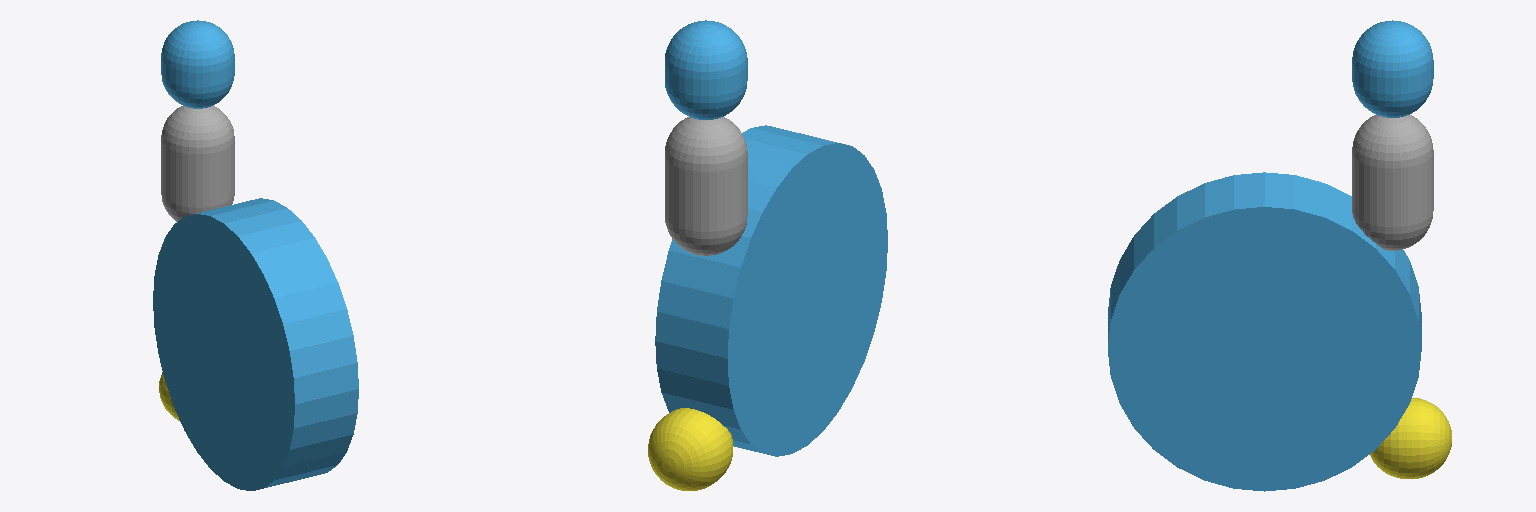
robot.urdf — DexterousHand:
<?xml version="1.0"?>
<robot name="DexterousHand">


    <link name="world"/>
    <joint name="world_to_palm" type="fixed">
        <parent link="world"/>
        <child link="palm"/>
        <origin xyz="0 0 0" rpy="0 0 0"/>
    </joint>
    <link name="palm">
        <inertial>
            <origin xyz="0 0 0.057" rpy="0 0 0"/>
            <mass value="0.30212892864"/>
            <inertia ixx="0.00049080844457568" ixy="0.0" ixz="0.0" iyy="0.00026746366246427523" iyz="0.0" izz="0.00026746366246427523"/>
        </inertial>
        <visual>
            <origin xyz="0 0 0.057" rpy="1.5708 0 1.5708"/>
            <geometry>
                <cylinder radius="0.057" length="0.0296"/>
            </geometry>
            <material name="default"/>
        </visual>
        <collision>
            <origin xyz="0 0 0.057" rpy="1.5708 0 1.5708"/>
            <geometry>
                <cylinder radius="0.057" length="0.0296"/>
            </geometry>
        </collision>
    </link>

    
    <joint name="thumb_joint1" type="revolute">
        <parent link="palm"/>
        <child link="thumb_base"/>
        <origin xyz="0.0029 0.0368 0.0157" rpy="-1.5708 -1.5708 0.0"/>
        <axis xyz="-1 0 0"/>
        <limit lower="-0.349" upper="2.094" effort="1.0" velocity="1.0"/>
    </joint>

    <link name="thumb_base"></link>

    <joint name="thumb_joint2" type="revolute">
        <parent link="thumb_base"/>
        <child link="thumb_proximal"/>
        <origin xyz="0.0 0.0 0.0" rpy="0.0 0.0 0.0"/>
        <axis xyz="0 0 1"/>
        <limit lower="-0.47" upper="2.443" effort="1.0" velocity="1.0"/>
    </joint>

    <link name="thumb_proximal">
        <inertial>
            <origin xyz="0 0 0.01565" rpy="0 0 0"/>
            <mass value="0.021538658803200002"/>
            <inertia ixx="2.9378910096388167e-06" ixy="0.0" ixz="0.0" 
            iyy="2.9378910096388167e-06" iyz="0.0" izz="2.358913912126464e-06"/>
        </inertial>
        <visual>
            <origin xyz="0 0 0.01565" rpy="0 0 0"/>
            <geometry>
                <cylinder radius="0.0148" length="0.0017000000000000001"/>
            </geometry>
            <material name="default"/>
        </visual>
        <visual>
            <origin xyz="0 0 0.0148" rpy="0 0 0"/>
            <geometry>
                <sphere radius="0.0148"/>
            </geometry>
            <material name="default"/>
        </visual>
        <visual>
            <origin xyz="0 0 0.0165" rpy="0 0 0"/>
            <geometry>
                <sphere radius="0.0148"/>
            </geometry>
            <material name="default"/>
        </visual>
        <collision>
            <origin xyz="0 0 0.01565" rpy="0 0 0"/>
            <geometry>
                <cylinder radius="0.0148" length="0.0017000000000000001"/>
            </geometry>
        </collision>
        <collision>
            <origin xyz="0 0 0.0148" rpy="0 0 0"/>
            <geometry>
                <sphere radius="0.0148"/>
            </geometry>
        </collision>
        <collision>
            <origin xyz="0 0 0.0165" rpy="0 0 0"/>
            <geometry>
                <sphere radius="0.0148"/>
            </geometry>
        </collision>
    </link>

    <joint name="thumb_joint3" type="revolute">
        <parent link="thumb_proximal"/>
        <child link="thumb_knuckle"/>
        <origin xyz="0.0 0.0 0.0" rpy="0.0 0.0 0.0"/>
        <axis xyz="1 0 0"/>
        <limit lower="0.0" upper="0.0" effort="1.0" velocity="1.0"/>
    </joint>

    <link name="thumb_knuckle"></link>

    <joint name="thumb_joint4" type="revolute">
        <parent link="thumb_knuckle"/>
        <child link="thumb_middle"/>
        <origin xyz="0 0 0" rpy="0 0 0"/> 
        <axis xyz="0 1 0"/>
        <limit lower="0.0" upper="0.0" effort="1.0" velocity="1.0"/>
    </joint>

    <link name="thumb_middle">
    </link>

    <joint name="thumb_joint5" type="revolute">
        <parent link="thumb_middle"/>
        <child link="thumb_distal"/>
        <origin xyz="0 0 0" rpy="0 0 0"/> 
        <axis xyz="0 1 0"/>
        <limit lower="0.0" upper="0.0" effort="1.0" velocity="1.0"/>
    </joint>

    <link name="thumb_distal">
    </link>

    
    <joint name="index_joint1" type="revolute">
        <parent link="palm"/>
        <child link="index_proximal"/>
        <origin xyz="0.0 0.0465 0.091" rpy="0.0 0.0 0.0"/>
        <axis xyz="0 1 0"/>
        <limit lower="-0.314" upper="2.23" effort="1.0" velocity="1.0"/>
    </joint>

    <link name="index_proximal">
        <inertial>
            <origin xyz="0 0 0.02655" rpy="0 0 0"/>
            <mass value="0.036540024998400006"/>
            <inertia ixx="1.058665009272394e-05" ixy="0.0" ixz="0.0" 
            iyy="1.058665009272394e-05" iyz="0.0" izz="4.001863537824769e-06"/>
        </inertial>
        <visual>
            <origin xyz="0 0 0.02655" rpy="0 0 0"/>
            <geometry>
                <cylinder radius="0.0148" length="0.0235"/>
            </geometry>
            <material name="default"/>
        </visual>
        <visual>
            <origin xyz="0 0 0.0148" rpy="0 0 0"/>
            <geometry>
                <sphere radius="0.0148"/>
            </geometry>
            <material name="default"/>
        </visual>
        <visual>
            <origin xyz="0 0 0.0383" rpy="0 0 0"/>
            <geometry>
                <sphere radius="0.0148"/>
            </geometry>
            <material name="default"/>
        </visual>
        <collision>
            <origin xyz="0 0 0.02655" rpy="0 0 0"/>
            <geometry>
                <cylinder radius="0.0148" length="0.0235"/>
            </geometry>
        </collision>
        <collision>
            <origin xyz="0 0 0.0148" rpy="0 0 0"/>
            <geometry>
                <sphere radius="0.0148"/>
            </geometry>
        </collision>
        <collision>
            <origin xyz="0 0 0.0383" rpy="0 0 0"/>
            <geometry>
                <sphere radius="0.0148"/>
            </geometry>
        </collision>
    </link>

    <joint name="index_joint2" type="revolute">
        <parent link="index_proximal"/>
        <child link="index_dummy"/>
        <origin xyz="0.0 0.0 0.038" rpy="0.0 0.0 0.0"/>
        <axis xyz="1 0 0"/>
        <limit lower="-1.047" upper="1.047" effort="1.0" velocity="1.0"/>
    </joint>

    <link name="index_dummy"></link>

    <joint name="index_joint3" type="revolute">
        <parent link="index_dummy"/>
        <child link="index_middle"/>
        <origin xyz="0 0 0.015100000000000002" rpy="0 0 0"/>
        <axis xyz="0 1 0"/>
        <limit lower="-0.506" upper="1.885" effort="1.0" velocity="1.0"/>
    </joint>

    <link name="index_middle">
        <inertial>
            <origin xyz="0 0 0.01805" rpy="0 0 0"/>
            <mass value="0.0248417119104"/>
            <inertia ixx="4.058162759109537e-06" ixy="0.0" ixz="0.0" 
            iyy="4.058162759109537e-06" iyz="0.0" izz="2.7206642884270085e-06"/>
        </inertial>
        <visual>
            <origin xyz="0 0 0.01805" rpy="0 0 0"/>
            <geometry>
                <cylinder radius="0.0148" length="0.006499999999999999"/>
            </geometry>
            <material name="default"/>
        </visual>
        <visual>
            <origin xyz="0 0 0.0148" rpy="0 0 0"/>
            <geometry>
                <sphere radius="0.0148"/>
            </geometry>
            <material name="default"/>
        </visual>
        <visual>
            <origin xyz="0 0 0.0213" rpy="0 0 0"/>
            <geometry>
                <sphere radius="0.0148"/>
            </geometry>
            <material name="default"/>
        </visual>
        <collision>
            <origin xyz="0 0 0.01805" rpy="0 0 0"/>
            <geometry>
                <cylinder radius="0.0148" length="0.006499999999999999"/>
            </geometry>
        </collision>
        <collision>
            <origin xyz="0 0 0.0148" rpy="0 0 0"/>
            <geometry>
                <sphere radius="0.0148"/>
            </geometry>
        </collision>
        <collision>
            <origin xyz="0 0 0.0213" rpy="0 0 0"/>
            <geometry>
                <sphere radius="0.0148"/>
            </geometry>
        </collision>
    </link>

    <joint name="index_joint4" type="revolute">
        <parent link="index_middle"/>
        <child link="index_distal"/>
        <origin xyz="0 0 0.0361" rpy="0 0 0"/> 
        <axis xyz="0 1 0"/>
        <limit lower="0.0" upper="0.0" effort="1.0" velocity="1.0"/>
    </joint>

    <link name="index_distal">
    </link>

    
    <joint name="middle_joint1" type="revolute">
        <parent link="palm"/>
        <child link="middle_proximal"/>
        <origin xyz="0.0 0.0 0.0" rpy="0.0 0.0 0.0"/>
        <axis xyz="1 0 0"/>
        <limit lower="0.0" upper="0.0" effort="1.0" velocity="1.0"/>
    </joint>

    <link name="middle_proximal">
    </link>

    <joint name="middle_joint2" type="revolute">
        <parent link="middle_proximal"/>
        <child link="middle_dummy"/>
        <origin xyz="0.0 0.0 0.0" rpy="0.0 0.0 0.0"/>
        <axis xyz="0 1 0"/>
        <limit lower="0.0" upper="0.0" effort="1.0" velocity="1.0"/>
    </joint>

    <link name="middle_dummy"></link>

    <joint name="middle_joint3" type="revolute">
        <parent link="middle_dummy"/>
        <child link="middle_middle"/>
        <origin xyz="0 0 0" rpy="0 0 0"/>
        <axis xyz="0 1 0"/>
        <limit lower="0.0" upper="0.0" effort="1.0" velocity="1.0"/>
    </joint>

    <link name="middle_middle">
    </link>

    <joint name="middle_joint4" type="revolute">
        <parent link="middle_middle"/>
        <child link="middle_distal"/>
        <origin xyz="0 0 0" rpy="0 0 0"/> 
        <axis xyz="0 1 0"/>
        <limit lower="0.0" upper="0.0" effort="1.0" velocity="1.0"/>
    </joint>

    <link name="middle_distal">
    </link>

    
    <joint name="ring_joint1" type="revolute">
        <parent link="palm"/>
        <child link="ring_proximal"/>
        <origin xyz="0.0 0.0 0.0" rpy="0.0 0.0 0.0"/>
        <axis xyz="1 0 0"/>
        <limit lower="0.0" upper="0.0" effort="1.0" velocity="1.0"/>
    </joint>

    <link name="ring_proximal">
    </link>

    <joint name="ring_joint2" type="revolute">
        <parent link="ring_proximal"/>
        <child link="ring_dummy"/>
        <origin xyz="0.0 0.0 0.0" rpy="0.0 0.0 0.0"/>
        <axis xyz="0 1 0"/>
        <limit lower="0.0" upper="0.0" effort="1.0" velocity="1.0"/>
    </joint>

    <link name="ring_dummy"></link>

    <joint name="ring_joint3" type="revolute">
        <parent link="ring_dummy"/>
        <child link="ring_middle"/>
        <origin xyz="0 0 0" rpy="0 0 0"/>
        <axis xyz="0 1 0"/>
        <limit lower="0.0" upper="0.0" effort="1.0" velocity="1.0"/>
    </joint>

    <link name="ring_middle">
    </link>

    <joint name="ring_joint4" type="revolute">
        <parent link="ring_middle"/>
        <child link="ring_distal"/>
        <origin xyz="0 0 0" rpy="0 0 0"/> 
        <axis xyz="0 1 0"/>
        <limit lower="0.0" upper="0.0" effort="1.0" velocity="1.0"/>
    </joint>

    <link name="ring_distal">
    </link>

    
    <joint name="little_joint0" type="revolute">
        <parent link="palm"/>
        <child link="little_base"/>
        <origin xyz="0.0 0.0 0.0" rpy="0.0 0.0 0.0"/>
        <axis xyz="0 1 0"/>
        <limit lower="0.0" upper="0.0" effort="1.0" velocity="1.0"/>
    </joint>

    <link name="little_base"></link>

    <joint name="little_joint1" type="revolute">
        <parent link="little_base"/>
        <child link="little_proximal"/>
        <origin xyz="0.0 0.0 0.0" rpy="-0.0 -0.0 -0.0"/>
        <axis xyz="1 0 0"/>
        <limit lower="0.0" upper="0.0" effort="1.0" velocity="1.0"/>
    </joint>

    <link name="little_proximal">
    </link>

    <joint name="little_joint2" type="revolute">
        <parent link="little_proximal"/>
        <child link="little_dummy"/>
        <origin xyz="0.0 0.0 0.0" rpy="0.0 0.0 0.0"/>
        <axis xyz="0 1 0"/>
        <limit lower="0.0" upper="0.0" effort="1.0" velocity="1.0"/>
    </joint>

    <link name="little_dummy"></link>

    <joint name="little_joint3" type="revolute">
        <parent link="little_dummy"/>
        <child link="little_middle"/>
        <origin xyz="0 0 0" rpy="0 0 0"/>
        <axis xyz="0 1 0"/>
        <limit lower="0.0" upper="0.0" effort="1.0" velocity="1.0"/>
    </joint>

    <link name="little_middle">
    </link>

    <joint name="little_joint4" type="revolute">
        <parent link="little_middle"/>
        <child link="little_distal"/>
        <origin xyz="0 0 0" rpy="0 0 0"/>
        <axis xyz="0 1 0"/>
        <limit lower="0.0" upper="0.0" effort="1.0" velocity="1.0"/>
    </joint>

    <link name="little_distal">
    </link>

</robot>

--- Facts derived from the render (not from the file) ---
Views: 3 orthographic renders of the robot side by side, from view 1: azimuth 30°, elevation 25°; view 2: azimuth 150°, elevation 25°; view 3: azimuth 270°, elevation 25°.
Model DexterousHand with 24 links and 23 joints (22 revolute, 1 fixed), rooted at world, posed every joint at zero.
Visible links, largest first — view 1: palm, index_proximal, index_middle; view 2: palm, index_proximal, index_middle, thumb_proximal; view 3: palm, index_proximal, index_middle, thumb_proximal.
Boxes of the visible links, bbox=[...] form: palm: bbox=[153, 198, 358, 490]; index_proximal: bbox=[161, 105, 234, 221]; index_middle: bbox=[161, 20, 234, 108]; palm: bbox=[655, 125, 887, 456]; index_proximal: bbox=[665, 117, 747, 255]; index_middle: bbox=[665, 20, 747, 119]; thumb_proximal: bbox=[648, 408, 732, 490]; palm: bbox=[1108, 172, 1421, 491]; index_proximal: bbox=[1352, 115, 1433, 250]; index_middle: bbox=[1352, 20, 1433, 117]; thumb_proximal: bbox=[1369, 398, 1451, 478].
Bounding box of the posed robot: 0.0325 × 0.1251 × 0.1802 m (x, y, z).
Geometry: primitives only (box / cylinder / sphere), no mesh files.
